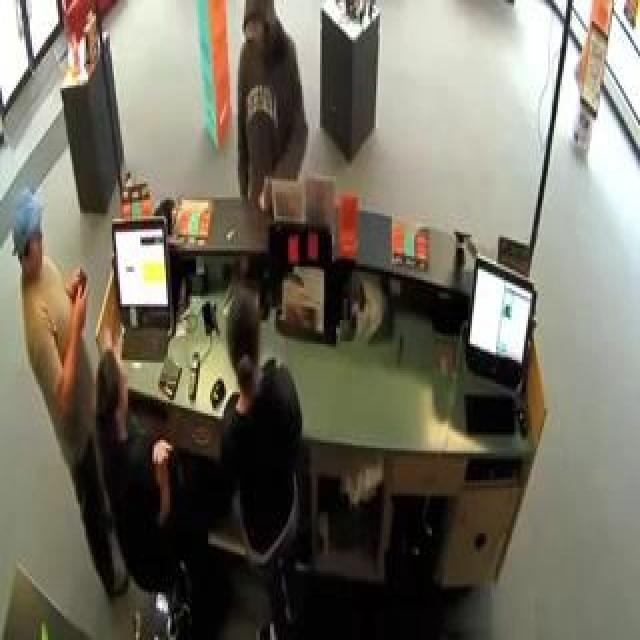high_con: (233, 0, 286, 61)
low_con: (8, 188, 51, 291)
no_con: (221, 294, 267, 408), (92, 348, 127, 444)
